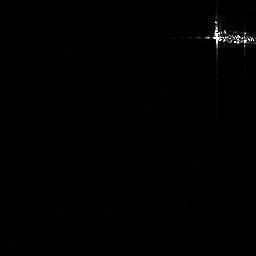ship: (199, 23, 256, 47)
